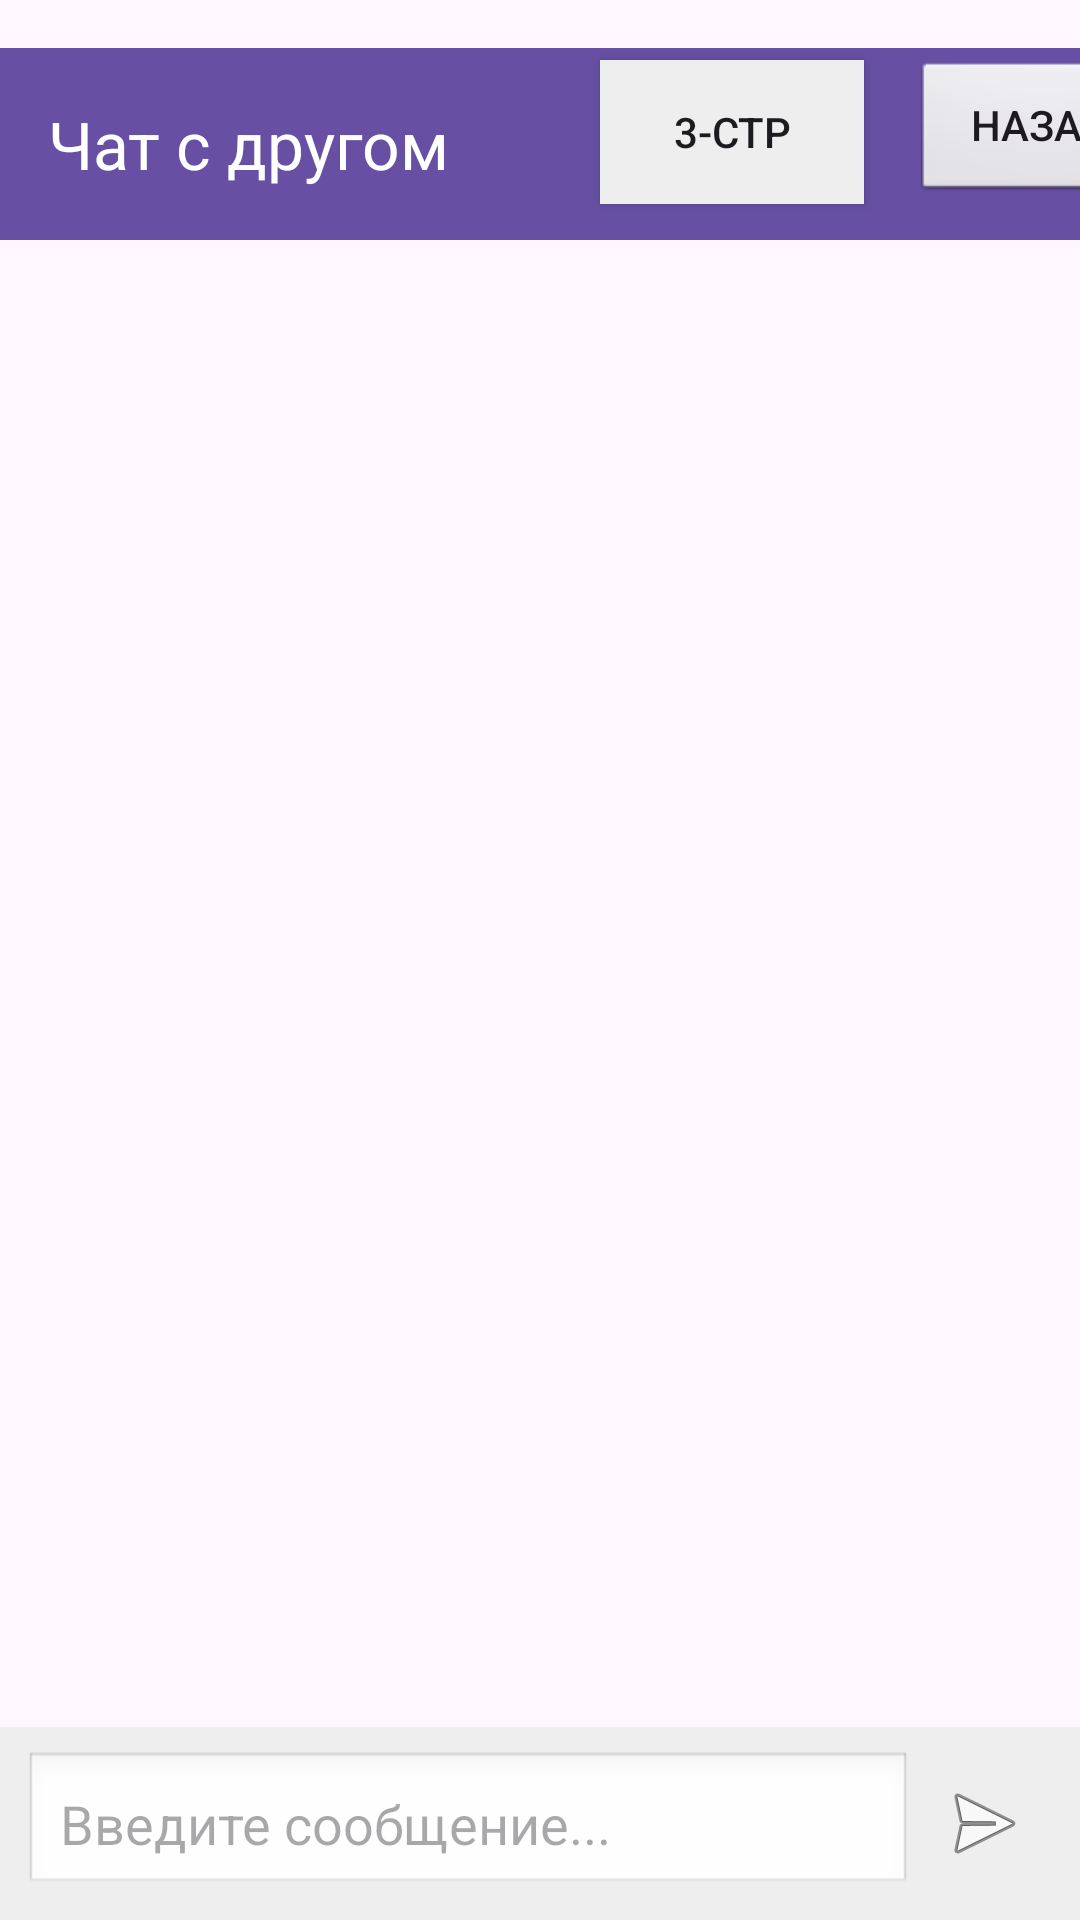

Named icons in this screenshot (1080×1920) and their bounding boxes, (x1, y1, x2, y2):
Отправить: (954, 1793, 1016, 1854)
